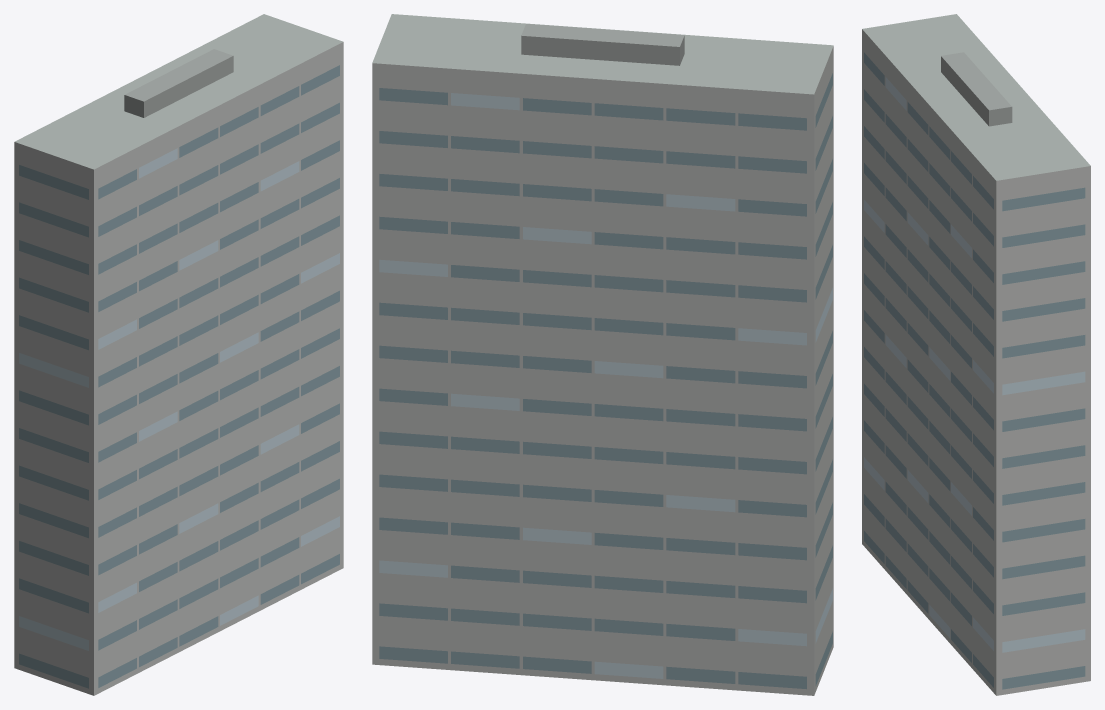
Rendered from fallback-songpa-helio-city-217.glb.
The picture shows the model from 3 angles, left to right: view 1: azimuth 30°, elevation 25°; view 2: azimuth 150°, elevation 25°; view 3: azimuth 270°, elevation 25°; orthographic projection. The views are drawn at different scales.
Visible parts, largest first — view 1: fallback-songpa-helio-city-217; view 2: fallback-songpa-helio-city-217; view 3: fallback-songpa-helio-city-217.
Boxes of the visible parts, x1,y1,x2,y2 form: fallback-songpa-helio-city-217: [14, 14, 343, 695]; fallback-songpa-helio-city-217: [372, 14, 833, 695]; fallback-songpa-helio-city-217: [862, 14, 1090, 695].
Bounding box in the file's own units: 53.23 × 79 × 30.86.
